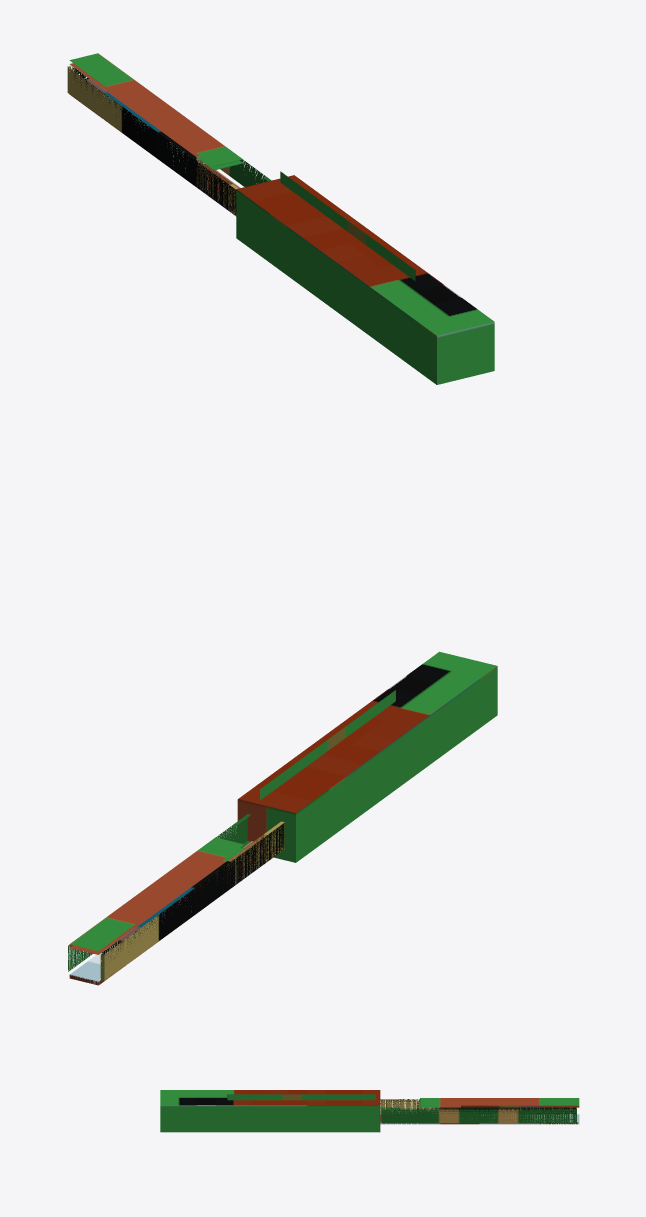
File: sniper2R.obj
3 renders of one model, top to bottom at view 1: azimuth 30°, elevation 25°; view 2: azimuth 150°, elevation 25°; view 3: azimuth 270°, elevation 25°, orthographic. The views are drawn at different scales.
Parts seen in each view (by area): view 1: cube; view 2: cube; view 3: cube.
Part boxes in pixels (<box>): cube: <box>67,53,494,384</box>; cube: <box>68,651,497,985</box>; cube: <box>160,1090,579,1132</box>.
Size of the model in its own units: 3.25 by 8.34 by 33.75.
